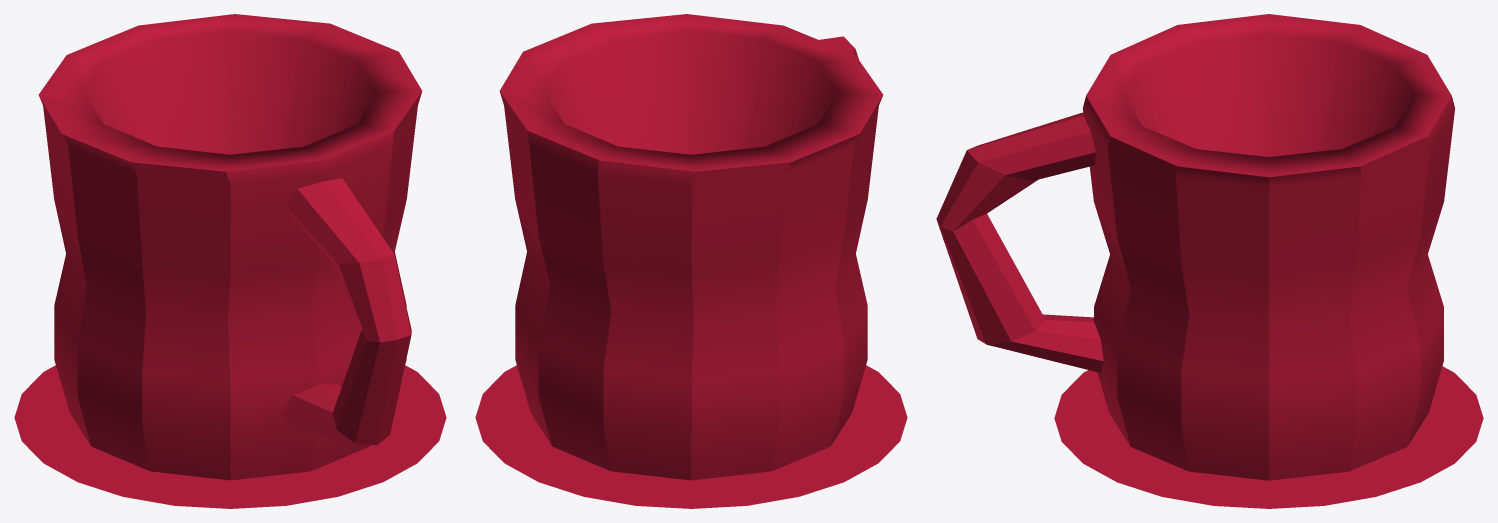
File: Cup color.fbx
3 renders of one model, left to right at view 1: azimuth 30°, elevation 25°; view 2: azimuth 150°, elevation 25°; view 3: azimuth 270°, elevation 25°, orthographic.
Visible parts, largest first — view 1: pDisc2; view 2: pDisc2; view 3: pDisc2.
Boxes of the visible parts, x1,y1,x2,y2 form: pDisc2: (14,14,446,508); pDisc2: (475,14,907,508); pDisc2: (936,14,1483,508).
Bounding box in the file's own units: 2.45 × 2.03 × 3.12.
